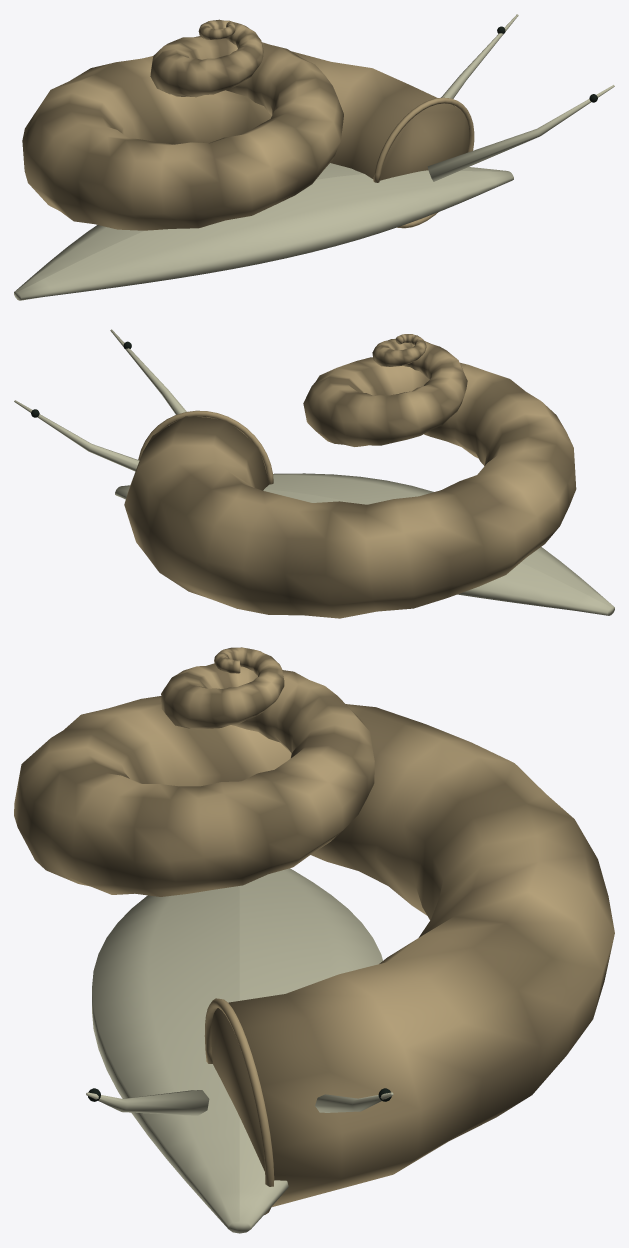
File: nerite-mobile.glb
The picture shows the model from 3 angles, top to bottom: view 1: azimuth 30°, elevation 25°; view 2: azimuth 150°, elevation 25°; view 3: azimuth 270°, elevation 25°; orthographic projection. The views are drawn at different scales.
Visible parts, largest first — view 1: continuous-whorled-shell, muscular-foot, cephalic-tentacle, aperture-lip; view 2: continuous-whorled-shell, muscular-foot, cephalic-tentacle, aperture-lip; view 3: continuous-whorled-shell, muscular-foot, cephalic-tentacle, aperture-lip.
Part boxes in pixels (box(x1,y1,x2,y2)): continuous-whorled-shell: box(22, 19, 469, 230); muscular-foot: box(14, 163, 513, 300); cephalic-tentacle: box(427, 14, 614, 181); aperture-lip: box(373, 97, 474, 228); continuous-whorled-shell: box(124, 334, 576, 618); muscular-foot: box(115, 473, 614, 615); cephalic-tentacle: box(14, 329, 186, 471); aperture-lip: box(138, 410, 273, 484); continuous-whorled-shell: box(14, 647, 614, 1207); muscular-foot: box(92, 868, 382, 1233); cephalic-tentacle: box(86, 1090, 393, 1115); aperture-lip: box(204, 998, 274, 1214).
Size of the model in its own units: 0.5905 by 0.2595 by 0.3554.
